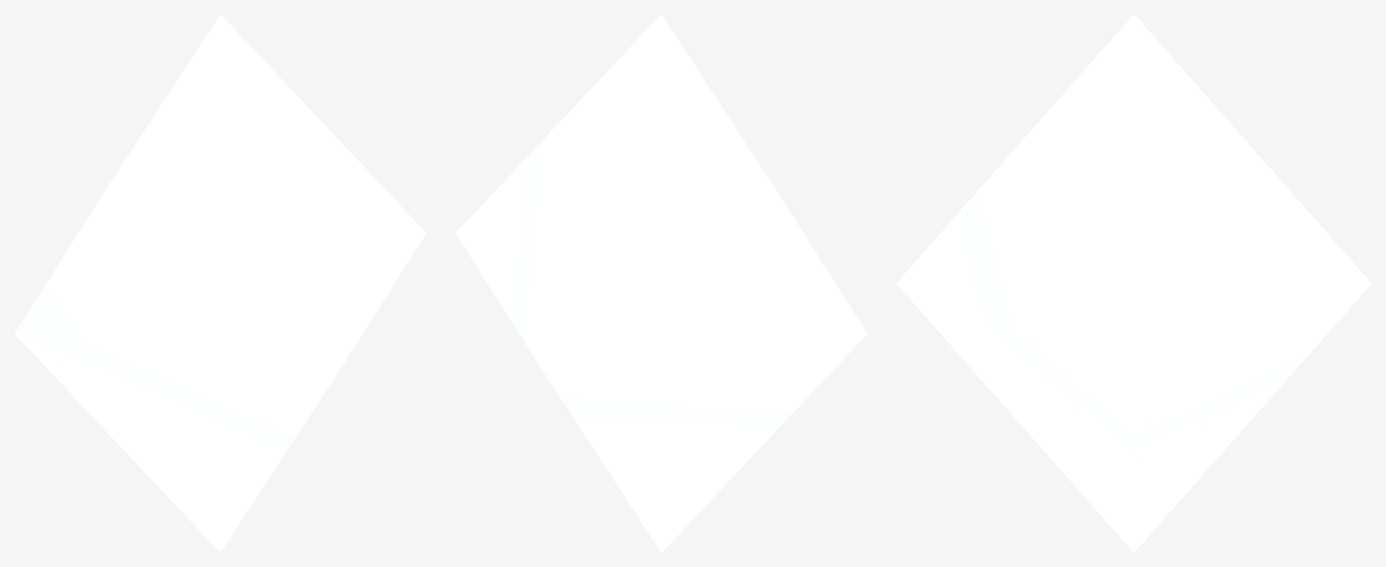
Rendered from SM_cv_gem_green.glb.
3 views of the same model, side by side, from view 1: azimuth 30°, elevation 25°; view 2: azimuth 150°, elevation 25°; view 3: azimuth 270°, elevation 25° (orthographic).
Visible parts, largest first — view 1: SM_cv_gem_green; view 2: SM_cv_gem_green; view 3: SM_cv_gem_green.
Part boxes in pixels (left/top/right/bottom): SM_cv_gem_green: left=14, top=14, right=426, bottom=552; SM_cv_gem_green: left=455, top=14, right=867, bottom=552; SM_cv_gem_green: left=896, top=14, right=1371, bottom=552.
Bounding box in the file's own units: 0.64 × 0.8 × 0.64.
